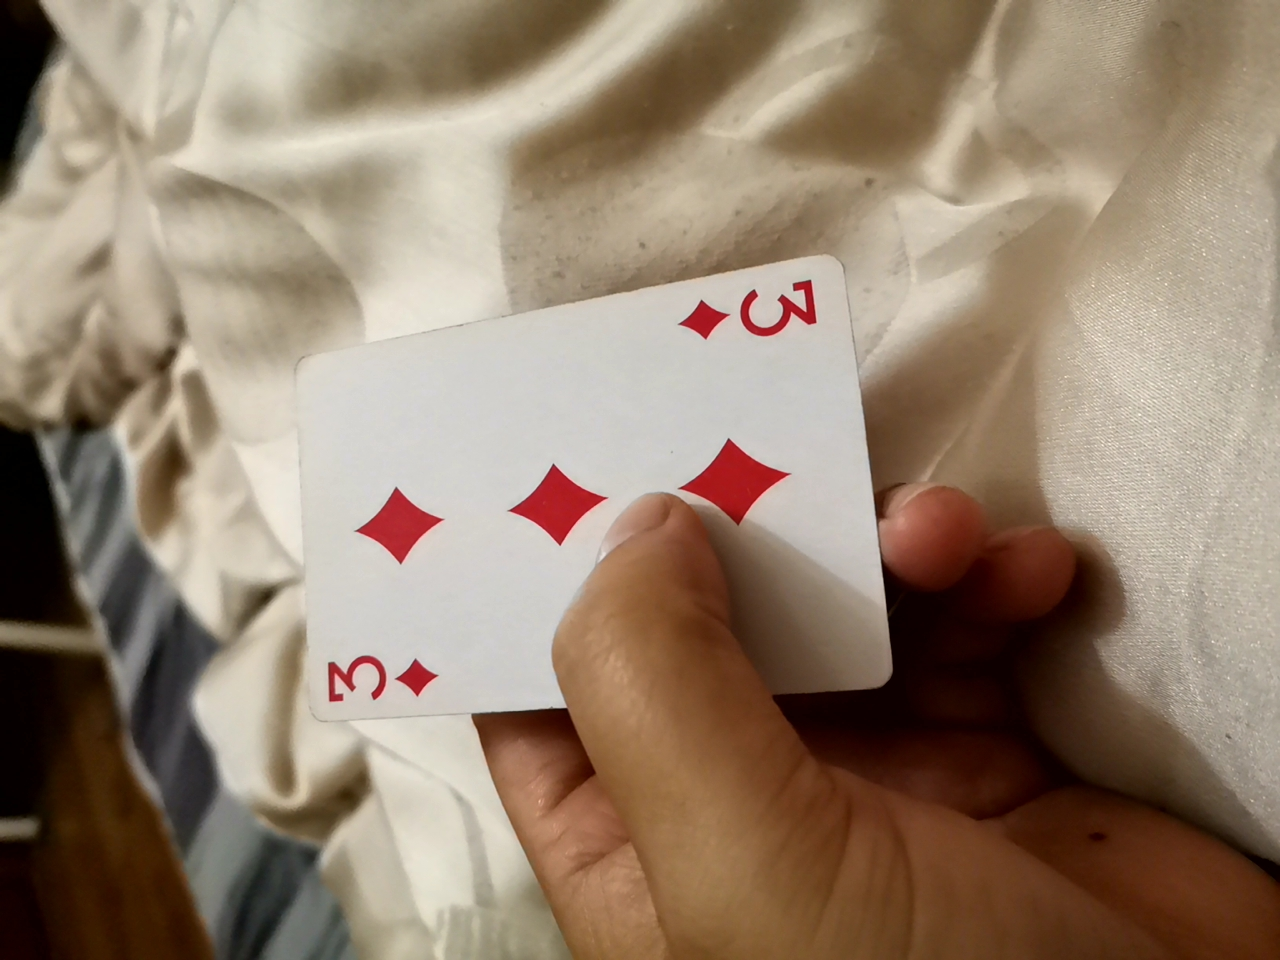fk 3: (249, 249, 913, 757)
